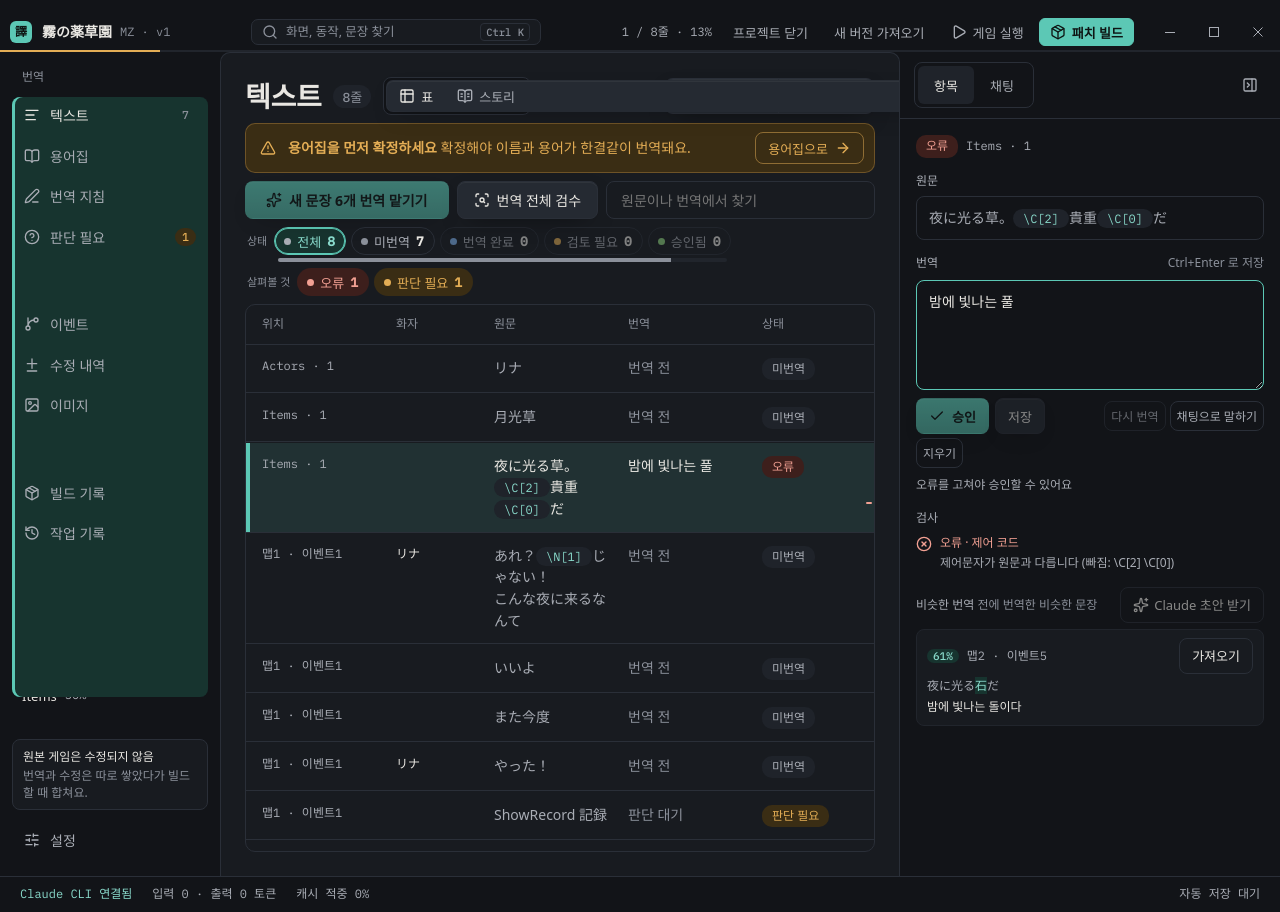
Test: 비슷한 번역을 가져오면 번역 입력칸이 깜빡인다
Check: the text "霧の薬草園" is shown, box [42,21,112,43]
Click the button "가져오기" next to "맵2 · 이벤트5" at (1216, 656), box [1179,638,1253,674]
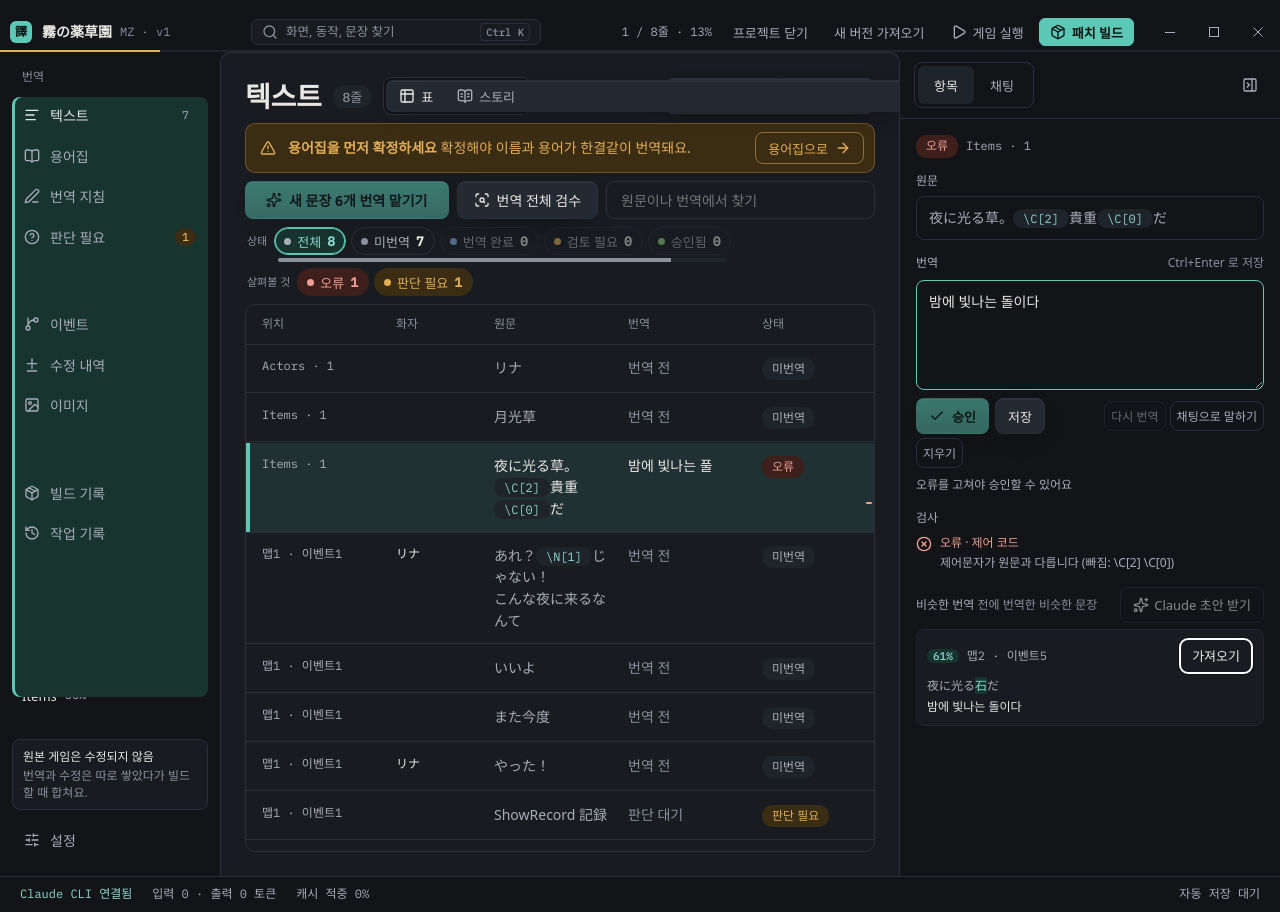
Check: the text box labelled "번역" holds "밤에 빛나는 돌이다", box [916,280,1264,390]
